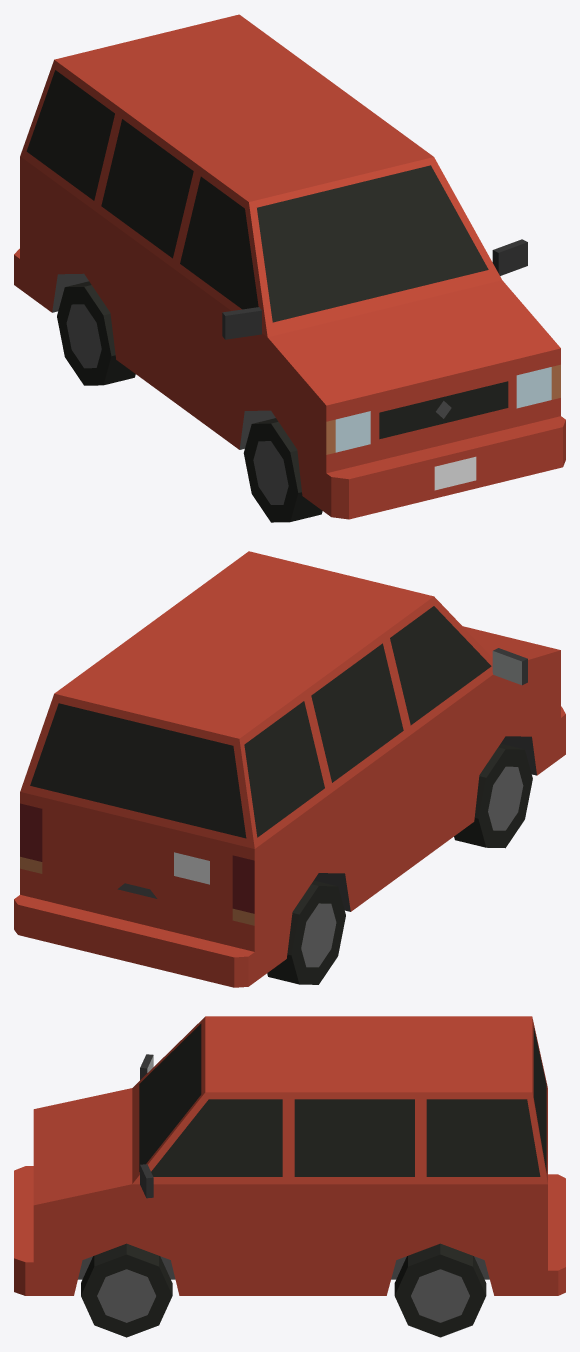
The model's file is Veh_Minivan_Red.glb.
3 renders of one model, top to bottom at view 1: azimuth 30°, elevation 25°; view 2: azimuth 150°, elevation 25°; view 3: azimuth 270°, elevation 25°, orthographic. The views are drawn at different scales.
Visible parts, largest first — view 1: Minivan_Red, Wheel_RR, Wheel_FR; view 2: Minivan_Red, Wheel_RR, Wheel_FR; view 3: Minivan_Red, Wheel_RL, Wheel_FL.
Boxes of the visible parts, x1=… form: Minivan_Red: x1=14, y1=14, x2=565, y2=519; Wheel_RR: x1=57, y1=281, x2=135, y2=385; Wheel_FR: x1=243, y1=418, x2=322, y2=522; Minivan_Red: x1=14, y1=551, x2=565, y2=987; Wheel_RR: x1=267, y1=880, x2=345, y2=984; Wheel_FR: x1=454, y1=744, x2=532, y2=848; Minivan_Red: x1=14, y1=1016, x2=565, y2=1295; Wheel_RL: x1=394, y1=1243, x2=486, y2=1337; Wheel_FL: x1=81, y1=1243, x2=172, y2=1337.
Bounding box in the file's own units: 1.31 × 1.16 × 2.46.
Materials: 1 (1 with a texture image).
